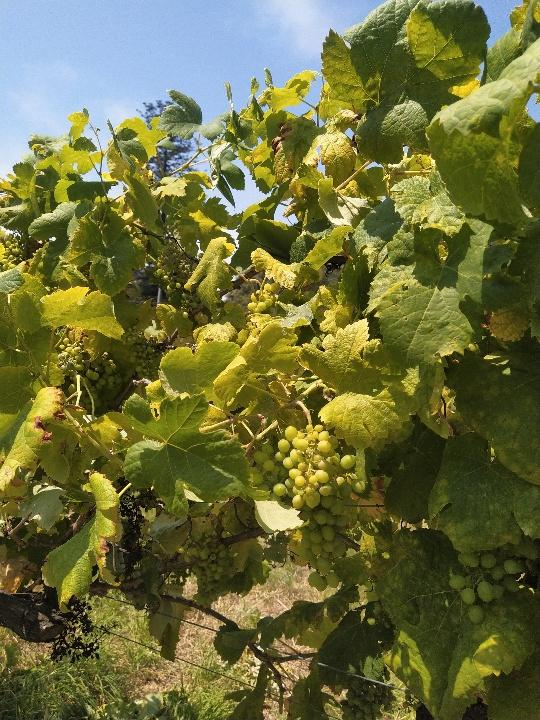grape: (250, 424, 368, 590)
